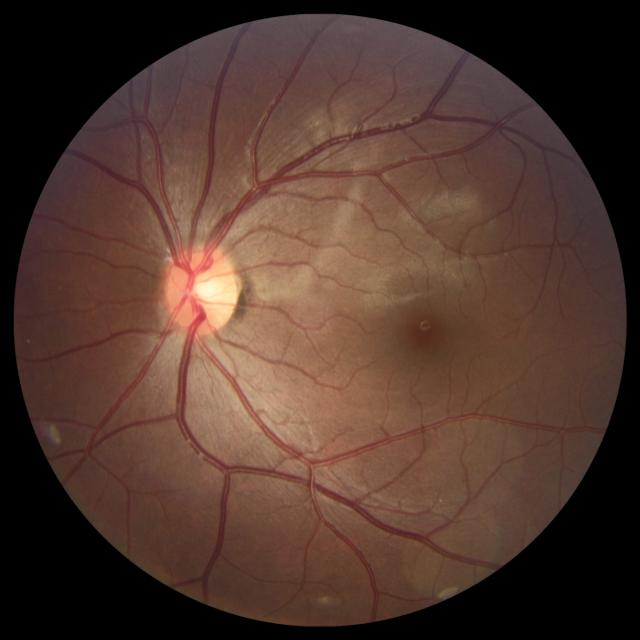OC: (186, 270, 224, 307)
OD: (162, 242, 241, 334)
